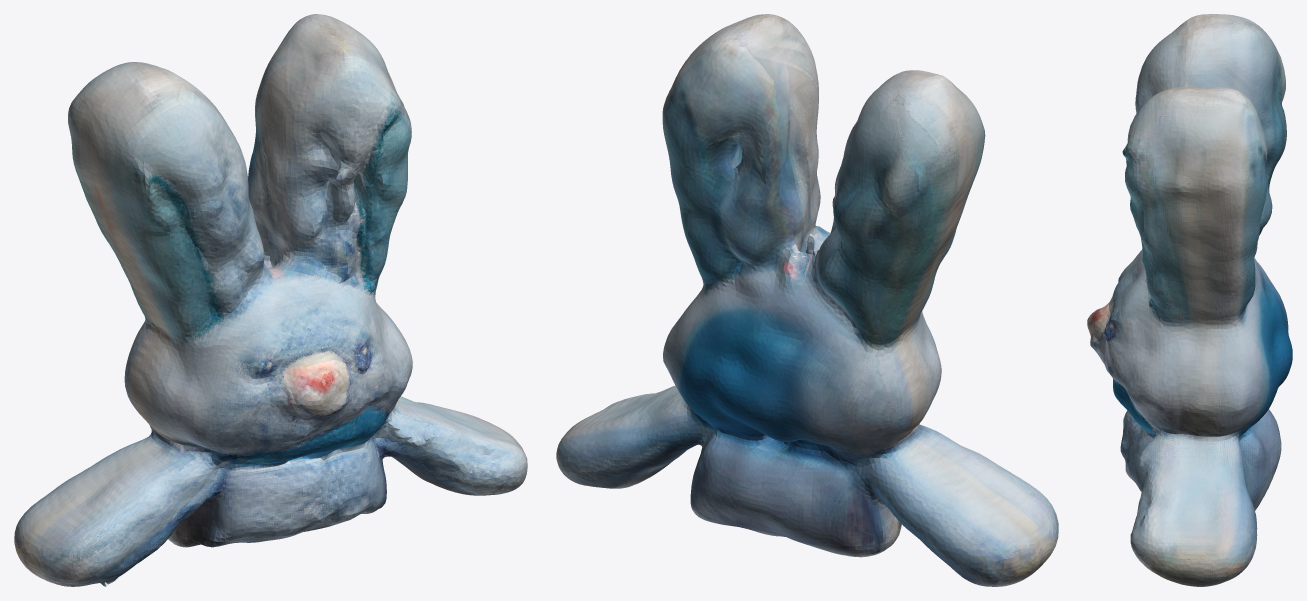
The model's file is bunny.glb.
The picture shows the model from 3 angles, left to right: view 1: azimuth 30°, elevation 25°; view 2: azimuth 150°, elevation 25°; view 3: azimuth 270°, elevation 25°; orthographic projection. The views are drawn at different scales.
Bounding box in the file's own units: 1.37 × 1.33 × 0.5791.
1 material, 1 textured.
